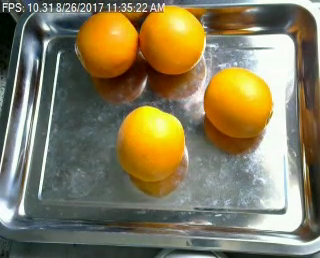Orange: (115, 104, 186, 181), (203, 67, 274, 139), (138, 6, 205, 74), (74, 11, 139, 77)
